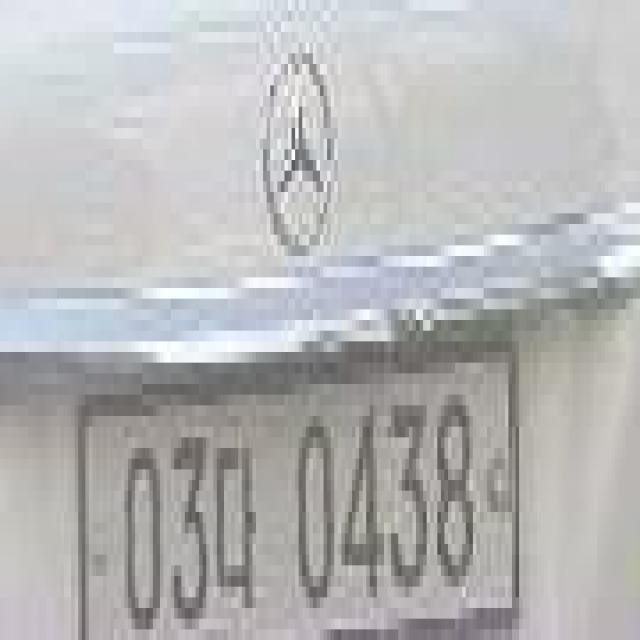illegal_plate: (72, 344, 524, 640)
